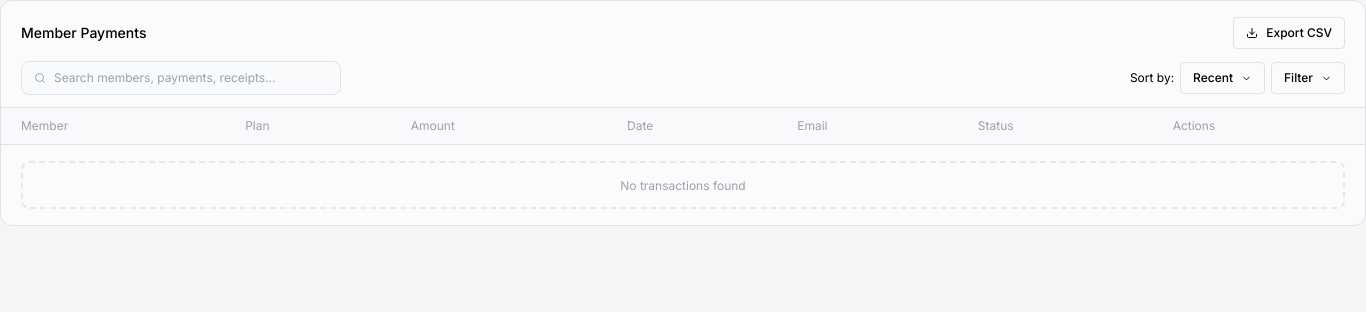
it: MemberPaymentsSection filters › opens the dropdown with plan and status options
The image size is (1366, 312).
Step 1. Click the button "Filter" → (1308, 78), box x1=1271 y1=62 x2=1345 y2=94
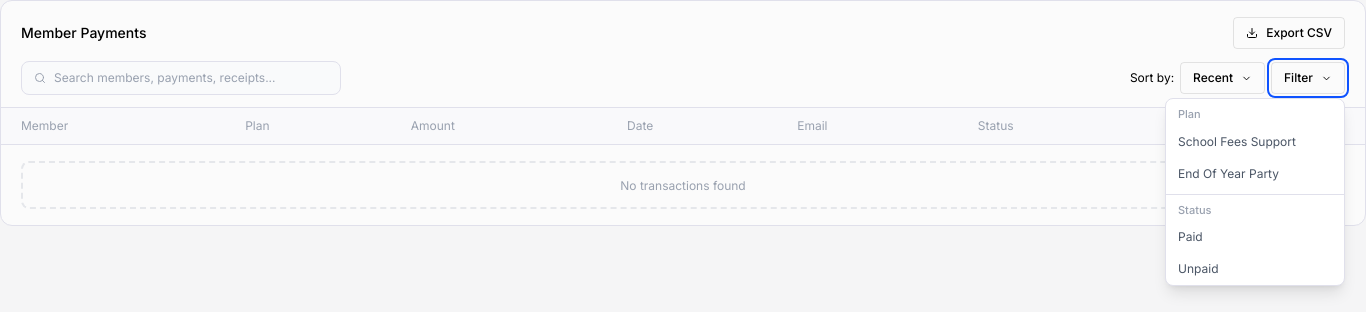
Expected: the menu named "Filter payments" is shown, x1=1165 y1=98 x2=1345 y2=286
Expected: the menu item "School Fees Support" is shown, x1=1166 y1=126 x2=1344 y2=158
Expected: the menu item "Paid" is shown, x1=1166 y1=221 x2=1344 y2=253
